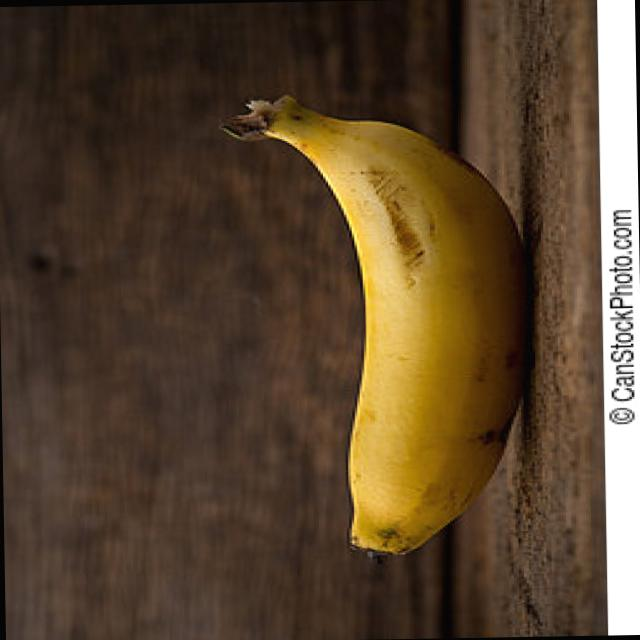banana: (214, 82, 536, 564)
